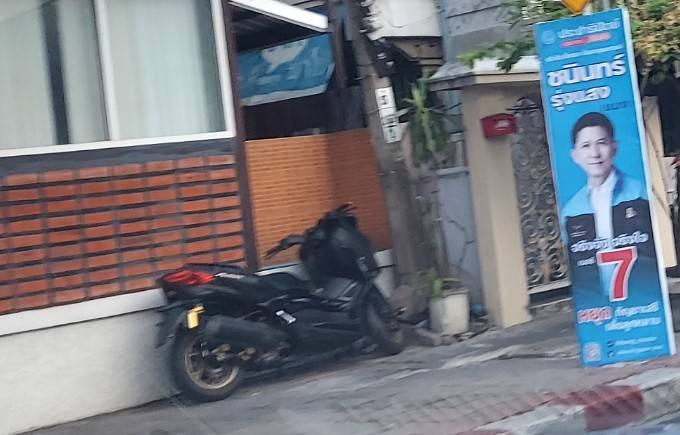Banner: (531, 6, 676, 371)
